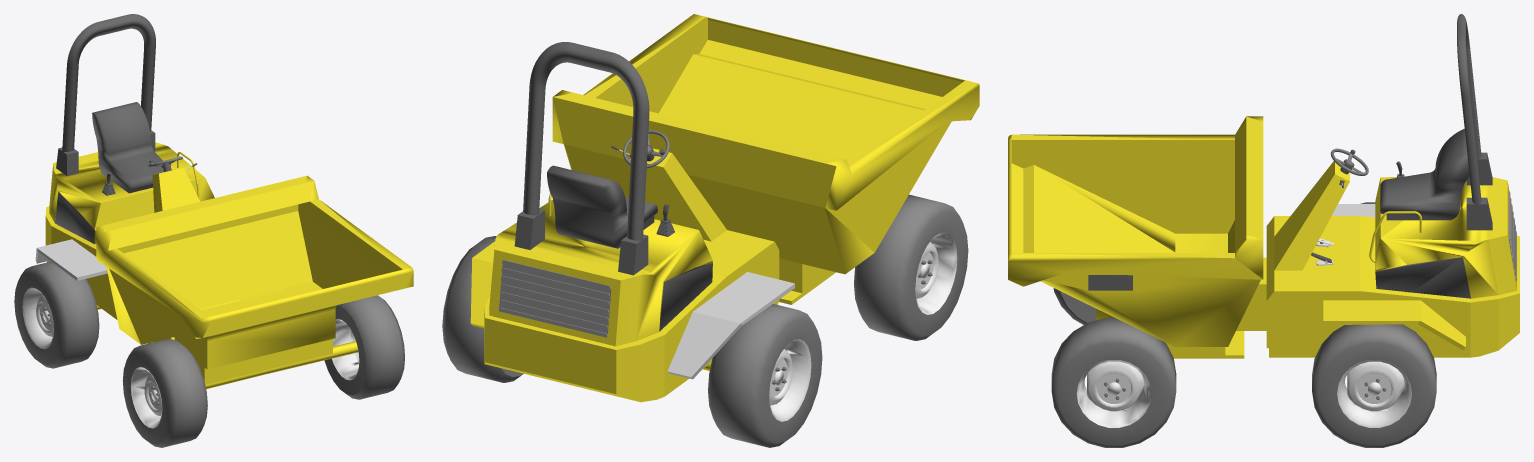
Rendered from DumpTruck_Mini.fbx.
3 views of the same model, side by side, from view 1: azimuth 30°, elevation 25°; view 2: azimuth 150°, elevation 25°; view 3: azimuth 270°, elevation 25° (orthographic). The views are drawn at different scales.
Parts seen in each view (by area): view 1: DumpTruck_Mini; view 2: DumpTruck_Mini; view 3: DumpTruck_Mini.
Boxes of the visible parts, box(x1,y1,x2,y2) form: DumpTruck_Mini: box(14, 14, 413, 447); DumpTruck_Mini: box(442, 14, 979, 447); DumpTruck_Mini: box(1008, 14, 1519, 447).
Size of the model in its own units: 182 by 217 by 285.
